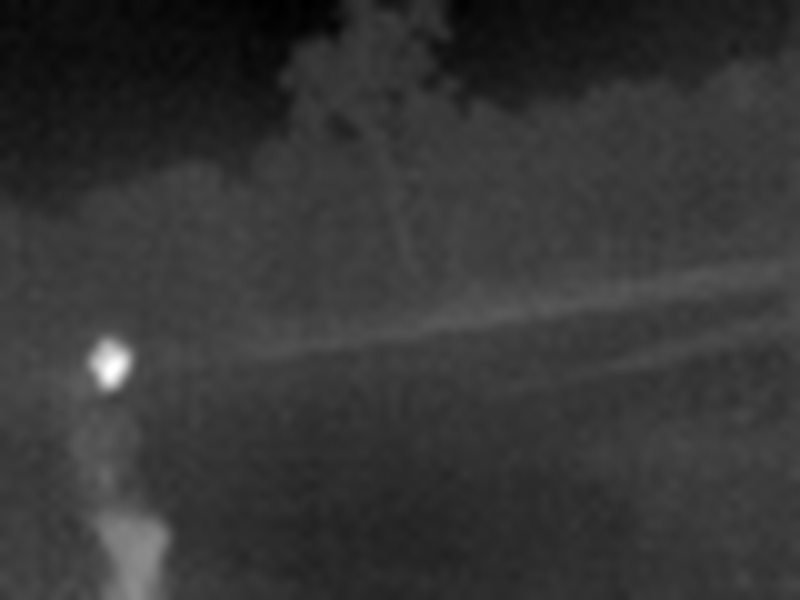elephant: (70, 334, 148, 435)
